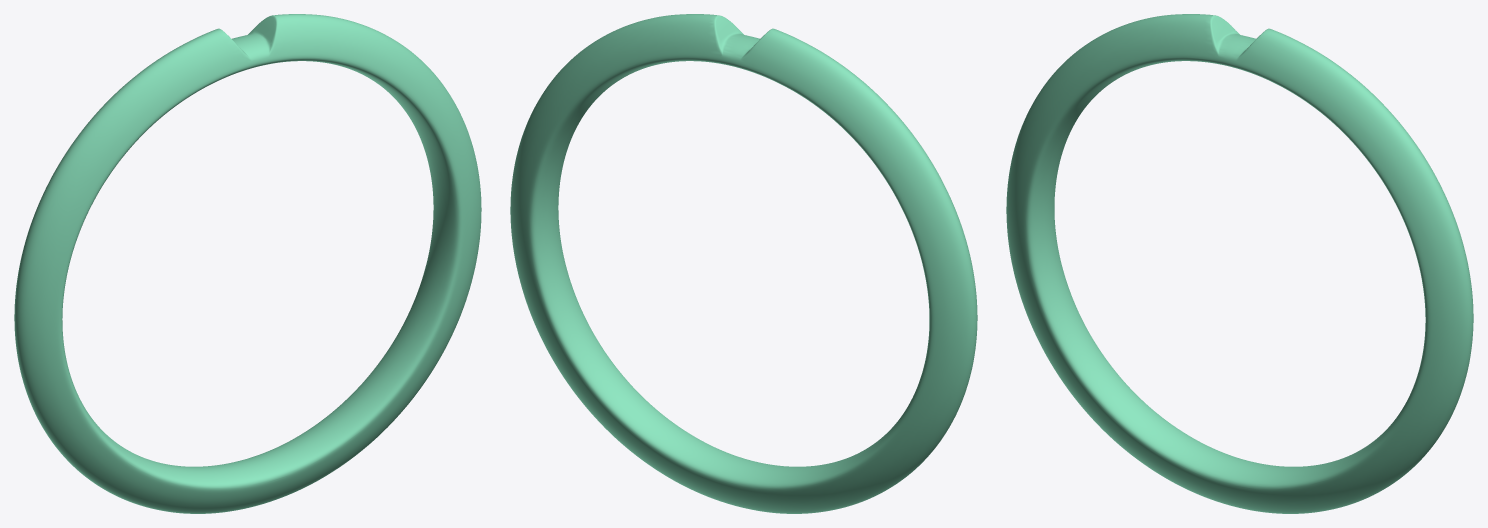
The picture shows the model from 3 angles, left to right: view 1: azimuth 30°, elevation 25°; view 2: azimuth 150°, elevation 25°; view 3: azimuth 330°, elevation 25°; orthographic projection.
Visible parts, largest first — view 1: Metal02; view 2: Metal02; view 3: Metal02.
Boxes of the visible parts, x1=… form: Metal02: x1=14, y1=14, x2=481, y2=513; Metal02: x1=510, y1=14, x2=977, y2=513; Metal02: x1=1006, y1=14, x2=1473, y2=513.
Bounding box in the file's own units: 20.92 × 20.84 × 2.
